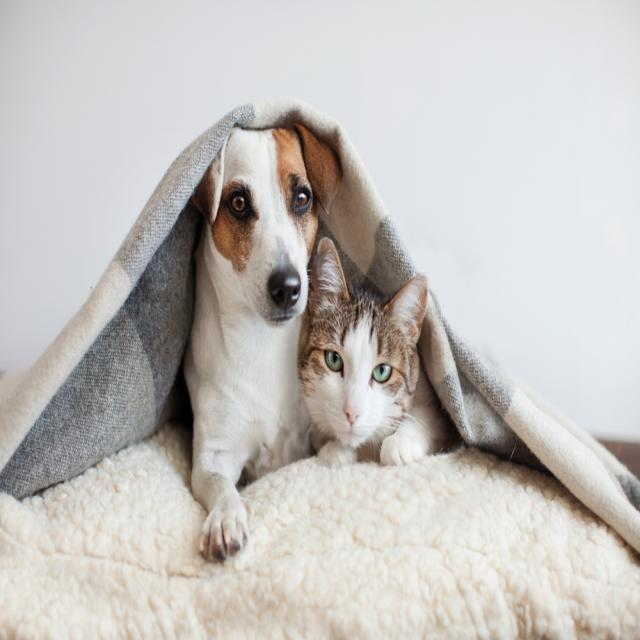cat: (297, 236, 446, 484)
dog: (171, 101, 325, 558)
